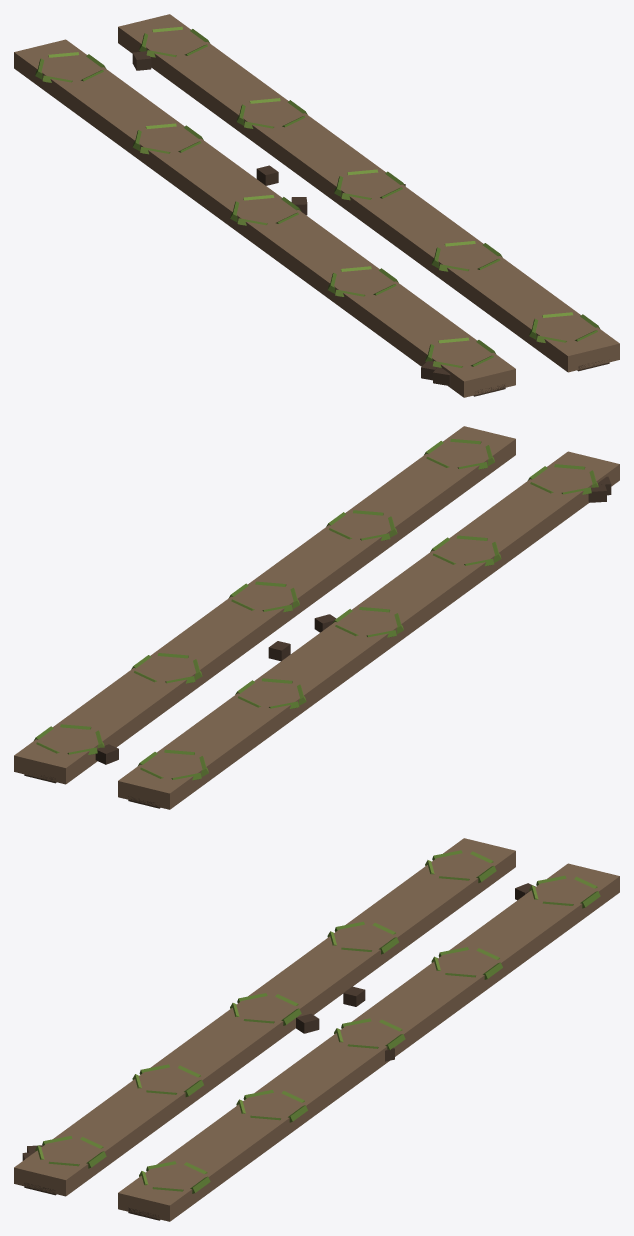
Rendered from crop_cabbage_2.glb.
The picture shows the model from 3 angles, top to bottom: view 1: azimuth 30°, elevation 25°; view 2: azimuth 150°, elevation 25°; view 3: azimuth 330°, elevation 25°; orthographic projection.
Visible parts, largest first — view 1: room_crop_cabbage_2; view 2: room_crop_cabbage_2; view 3: room_crop_cabbage_2.
Boxes of the visible parts, left/top/right/bottom form: room_crop_cabbage_2: left=14, top=14, right=619, bottom=397; room_crop_cabbage_2: left=14, top=426, right=619, bottom=809; room_crop_cabbage_2: left=14, top=838, right=619, bottom=1221.
Bounding box in the file's own units: 0.6779 × 0.0722 × 3.
